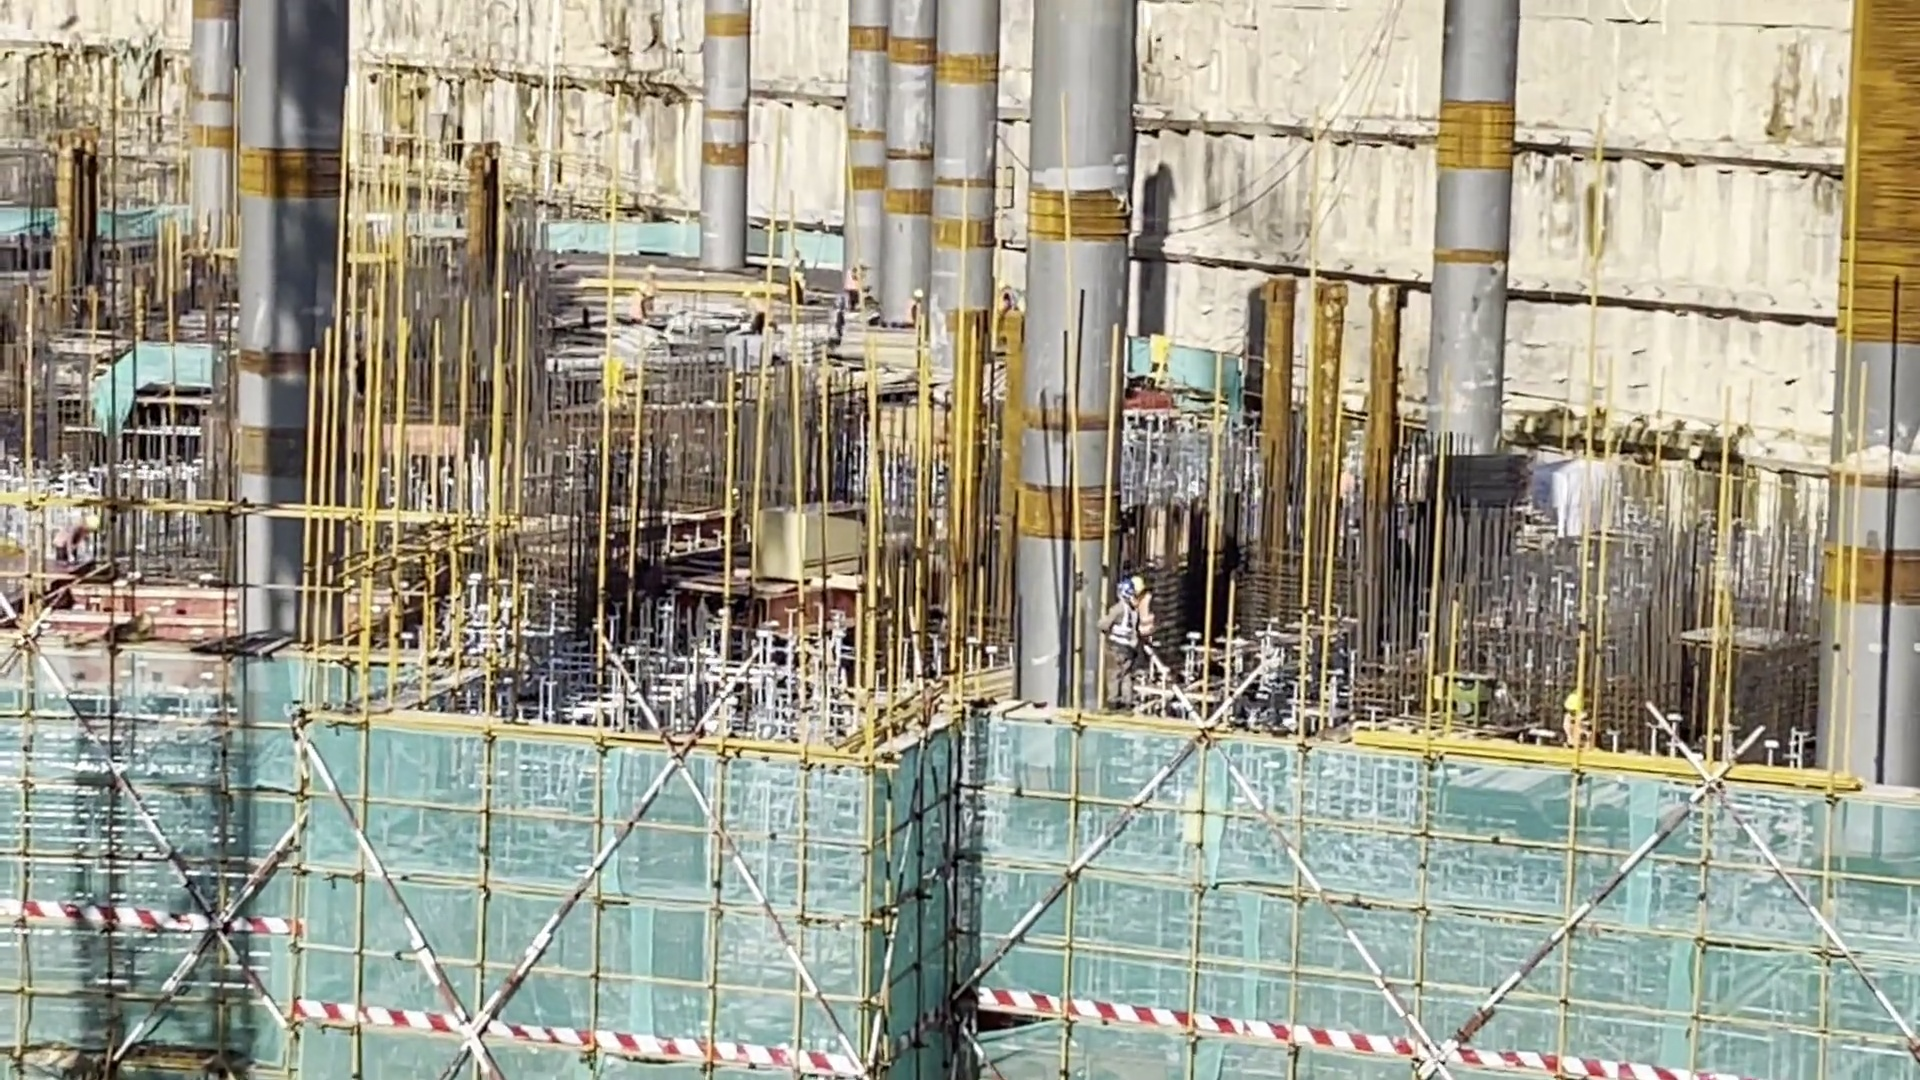helmet: (1563, 693, 1579, 709)
person: (1098, 580, 1133, 715), (1127, 575, 1154, 659)
vest: (1131, 595, 1154, 634), (1109, 620, 1135, 651)
